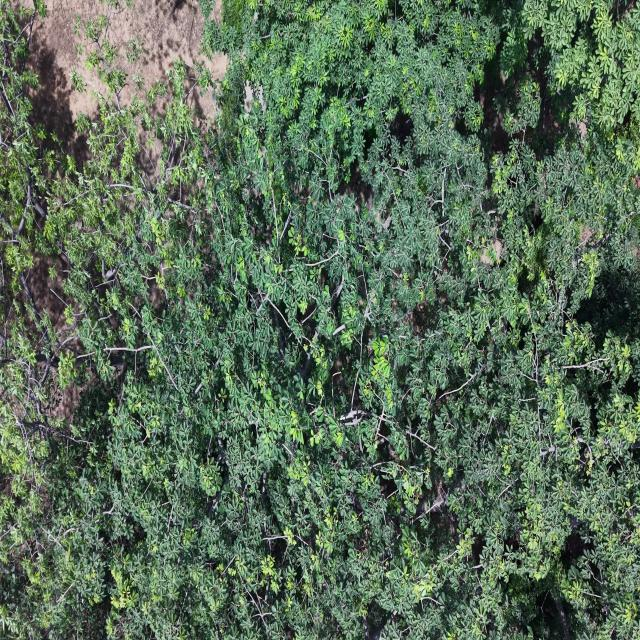DRY_AREA: (28, 0, 226, 160), (29, 0, 226, 160), (30, 0, 226, 157)
VEGETATION_TREE: (0, 0, 639, 639)
